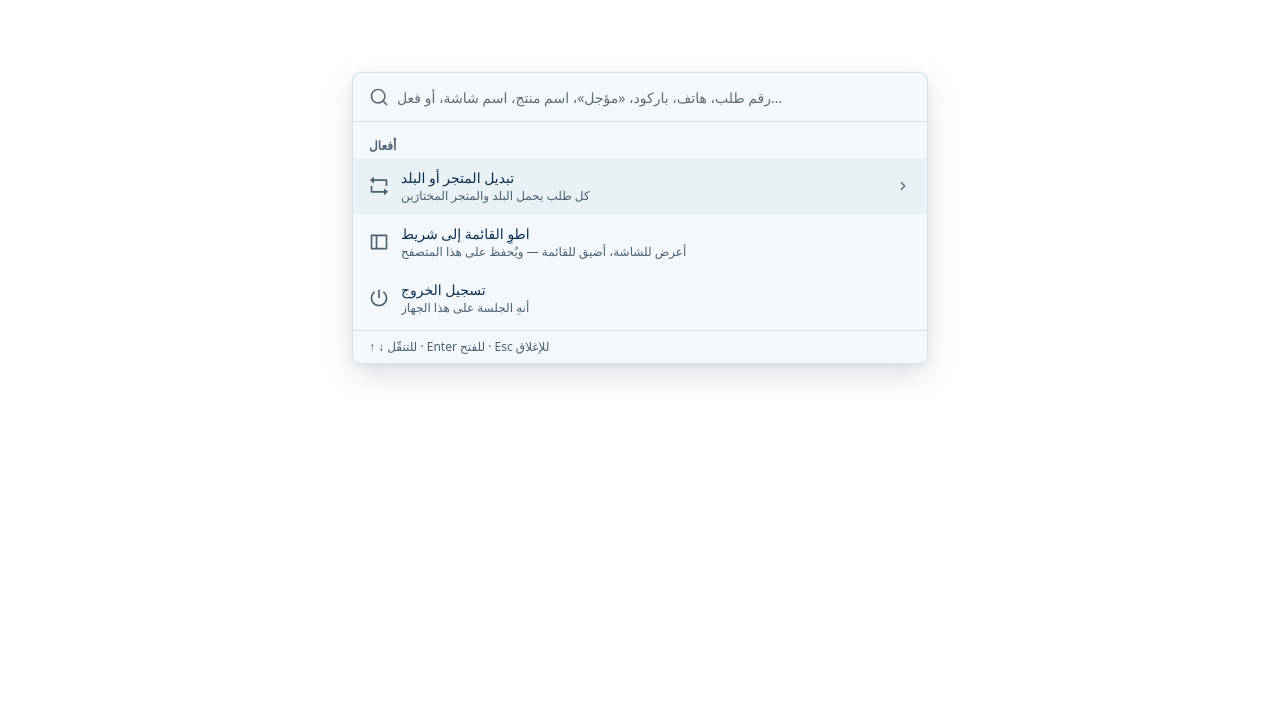
Test case: record lookup › and does when it was
The image size is (1280, 720).
Type "01234567" into the field named "ابحث أو انتقل أو نفّذ" at (654, 97), box [397,73,911,121]
Wait 400 ms
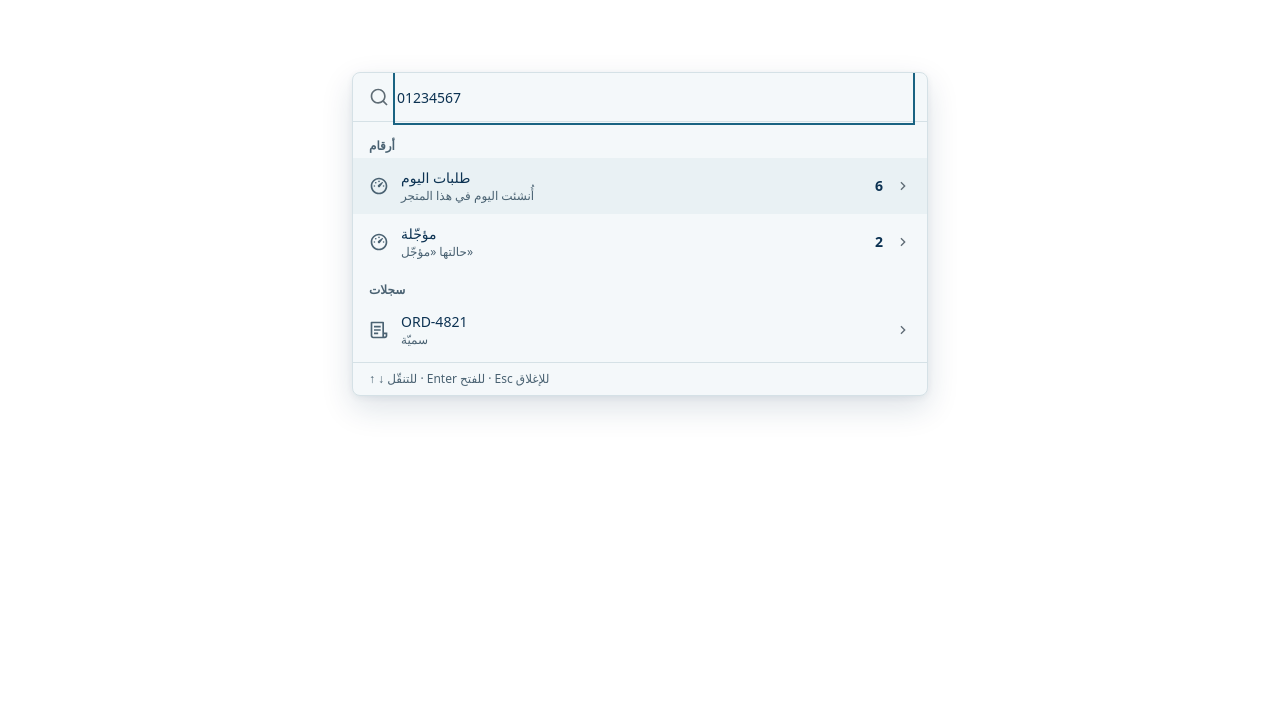
Check: the text "ORD-4821" is shown, box [401,312,467,331]
